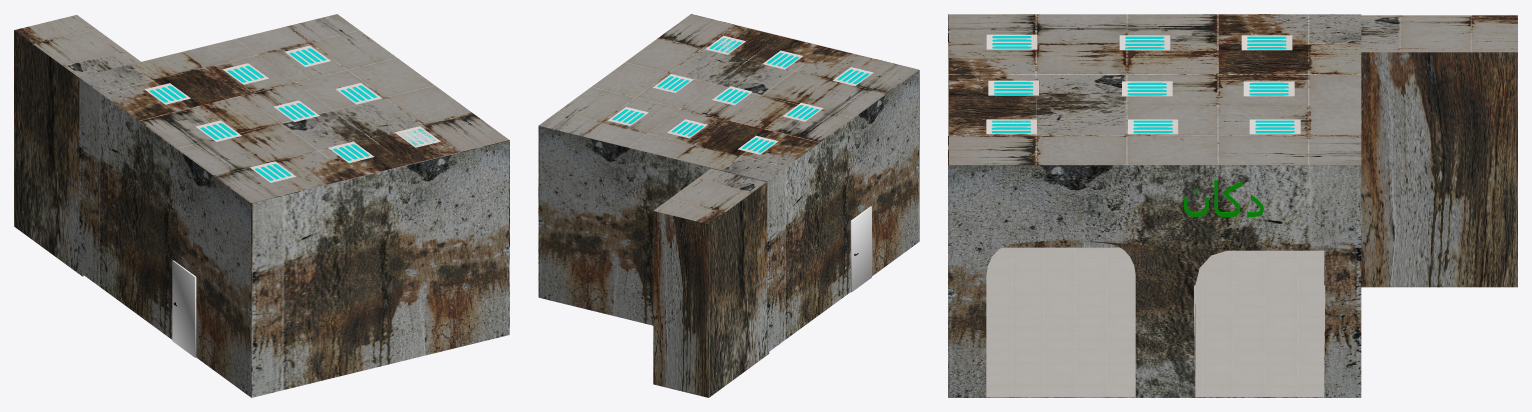
File: Shop.fbx
3 views of the same model, side by side, from view 1: azimuth 30°, elevation 25°; view 2: azimuth 150°, elevation 25°; view 3: azimuth 270°, elevation 25° (orthographic). The views are drawn at different scales.
Visible parts, largest first — view 1: polySurface91, polySurface89; view 2: polySurface91, polySurface89; view 3: polySurface91, polySurface66, typeMesh1, polySurface75, polySurface76, polySurface78, polySurface73, polySurface74, polySurface70, polySurface72, polySurface77, polySurface71.
Boxes of the visible parts, x1,y1,x2,y2 form: polySurface91: (14, 14, 509, 397); polySurface89: (172, 260, 196, 357); polySurface91: (538, 14, 919, 397); polySurface89: (850, 206, 871, 292); polySurface91: (948, 14, 1517, 397); polySurface66: (986, 247, 1325, 397); typeMesh1: (1183, 180, 1263, 217); polySurface75: (1249, 119, 1300, 134); polySurface76: (1243, 81, 1294, 96); polySurface78: (986, 34, 1037, 49); polySurface73: (1122, 81, 1172, 96); polySurface74: (1128, 119, 1178, 134); polySurface70: (986, 119, 1036, 134); polySurface72: (1119, 35, 1170, 50); polySurface77: (1241, 35, 1292, 50); polySurface71: (988, 80, 1038, 95).
Size of the model in its own units: 10.72 by 7.72 by 16.87.
12 materials, 6 textured.
